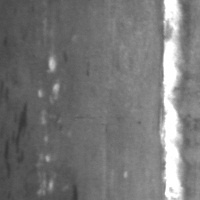inclusion: (0, 90, 30, 184)
scratches: (157, 0, 189, 199), (35, 56, 61, 193)
